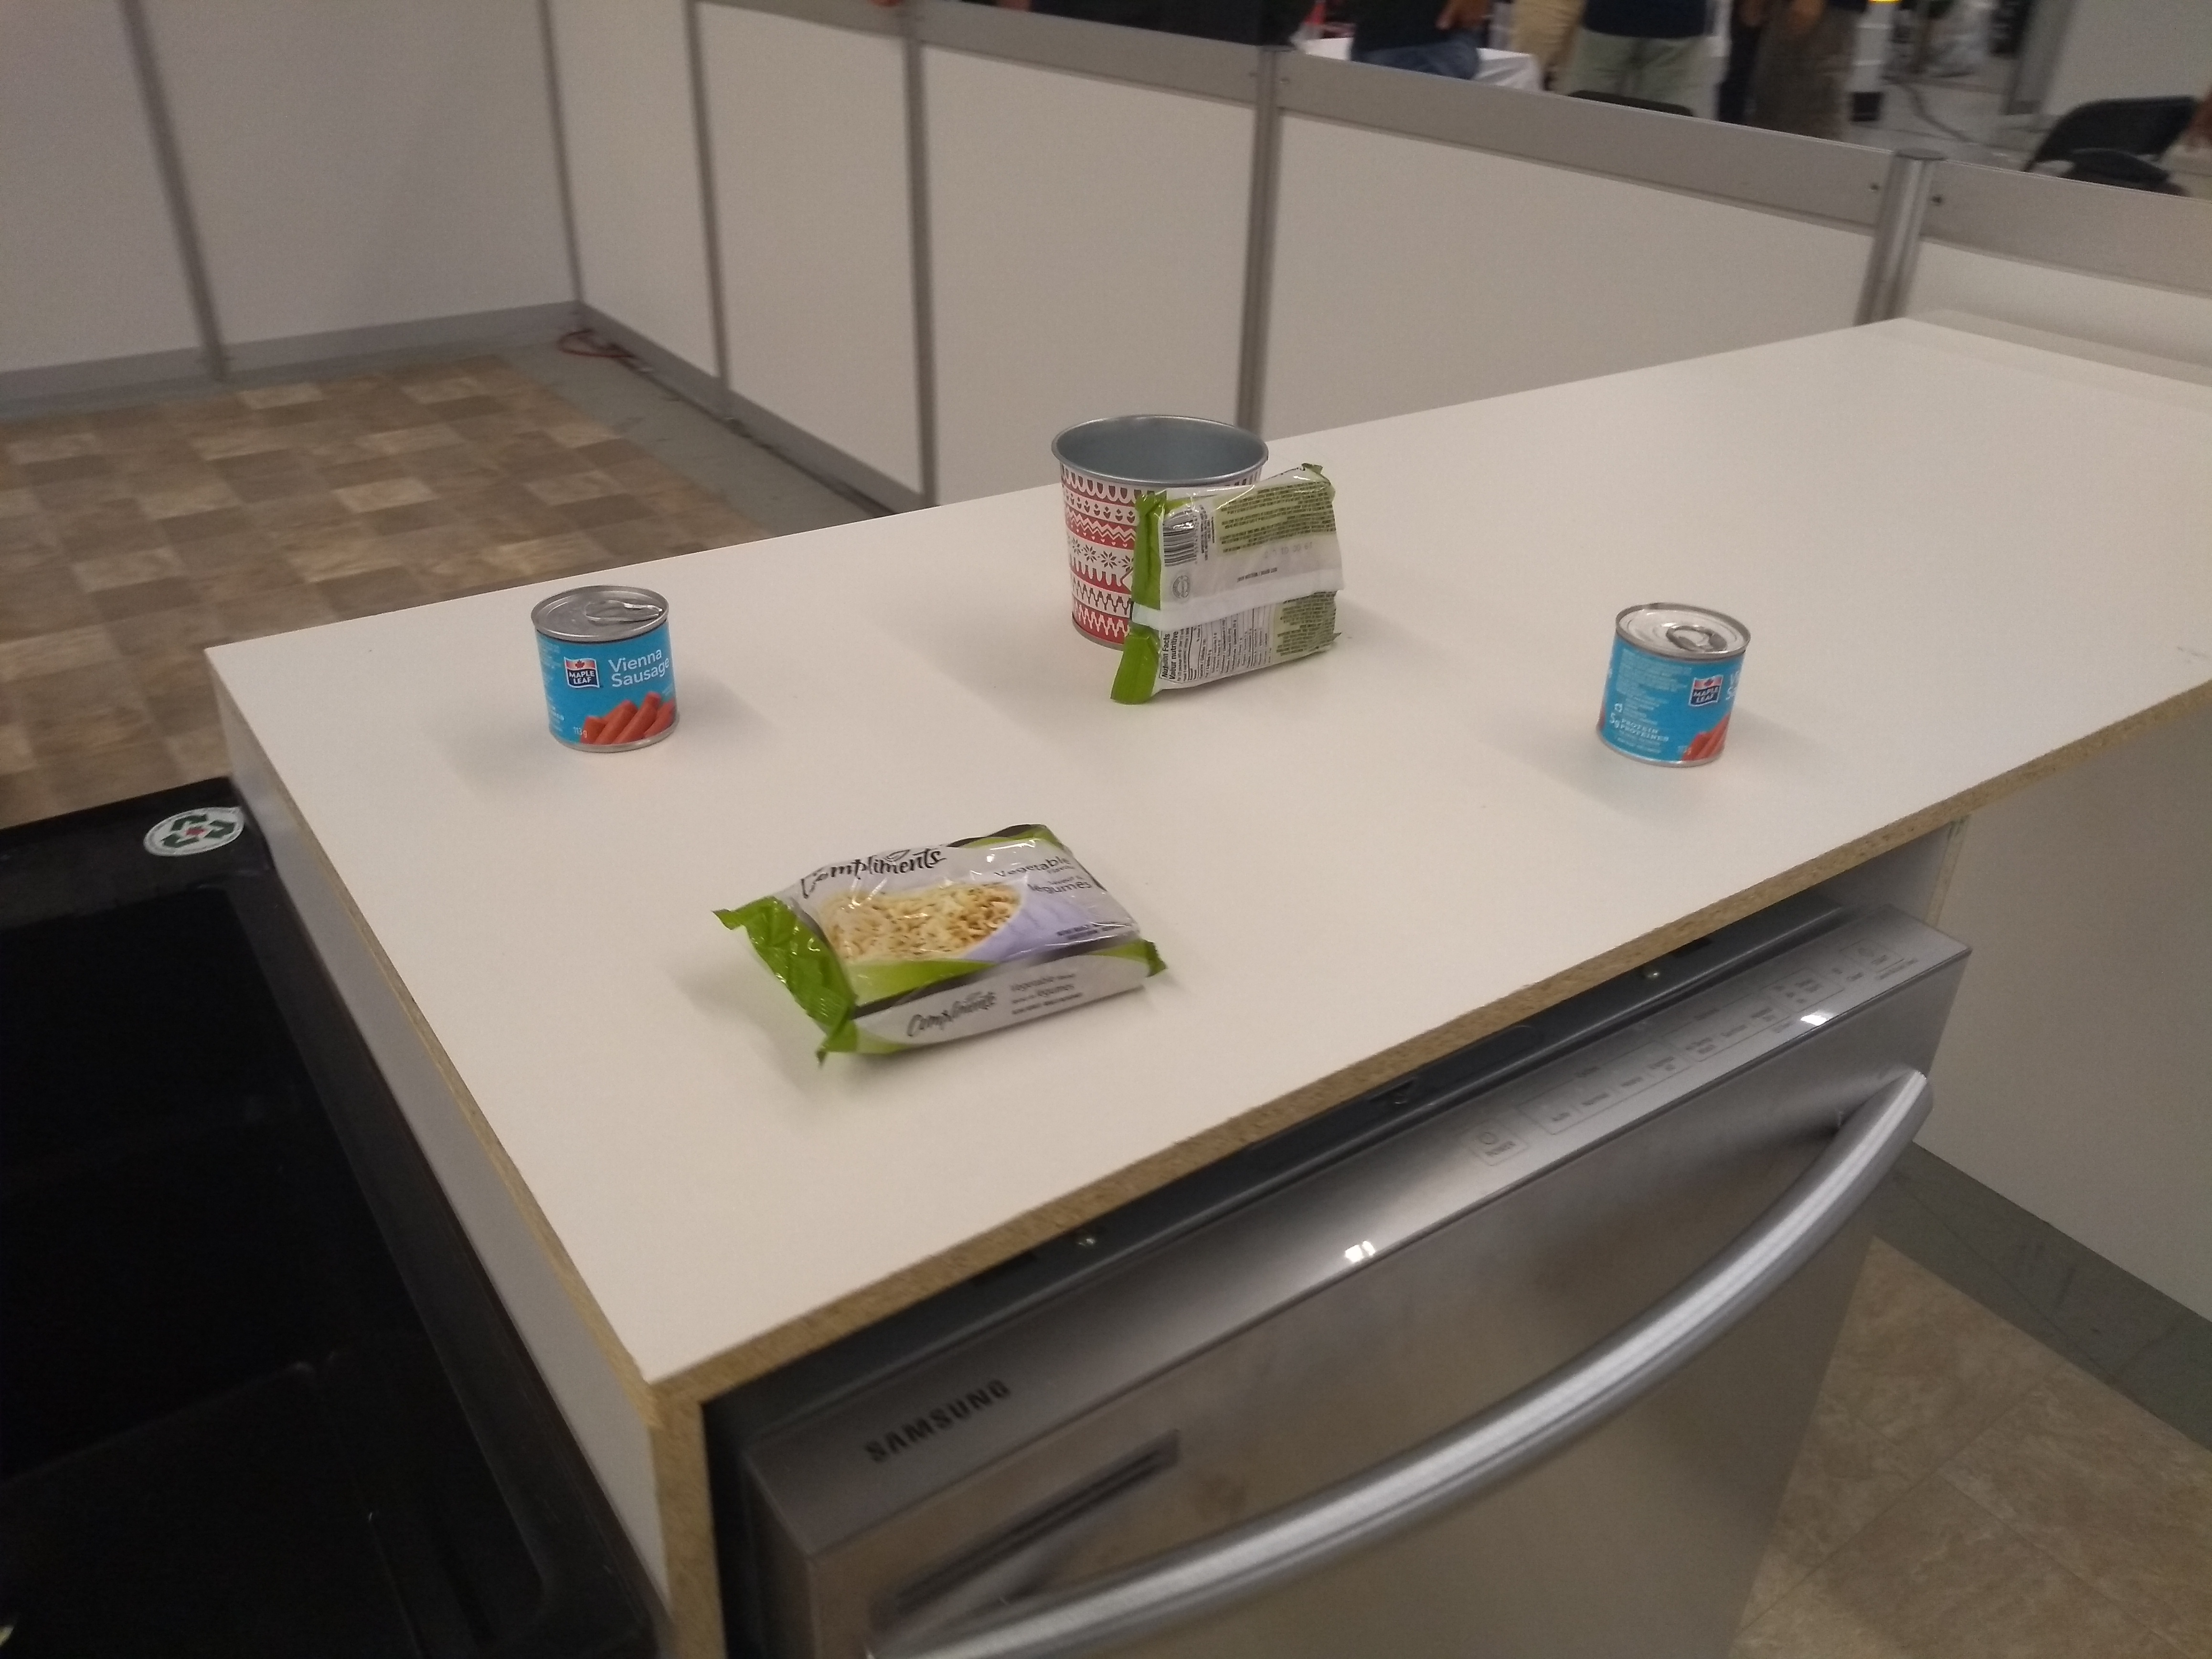noodles: (704, 803, 1179, 1072), (1097, 455, 1353, 716)
sausages: (528, 575, 693, 760), (1592, 594, 1757, 767)
